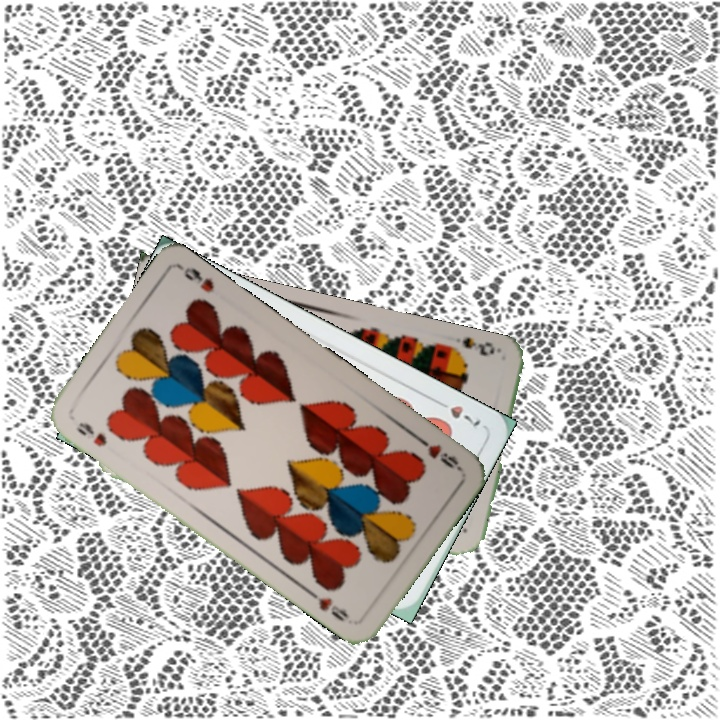H7: (431, 395, 484, 430)
H9: (412, 432, 463, 473), (72, 418, 110, 449)
S9: (442, 333, 498, 360)
